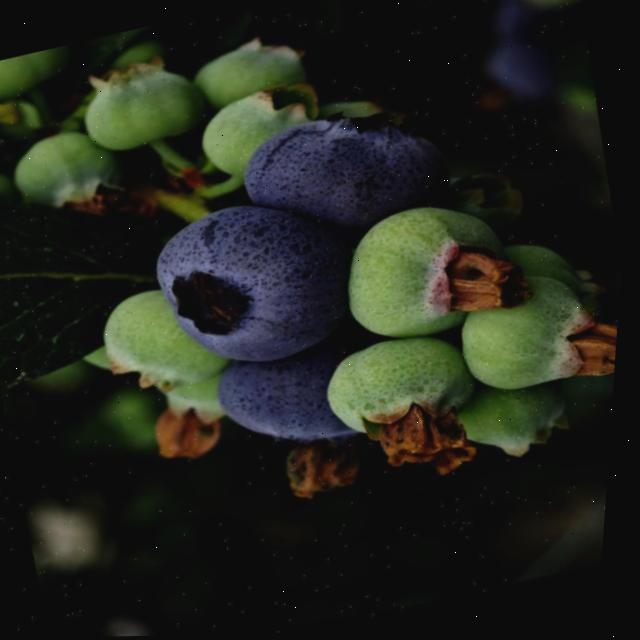RipeBlueBerry: (125, 172, 383, 400), (219, 77, 473, 260)
UnripeBlueBerry: (318, 178, 550, 368)
